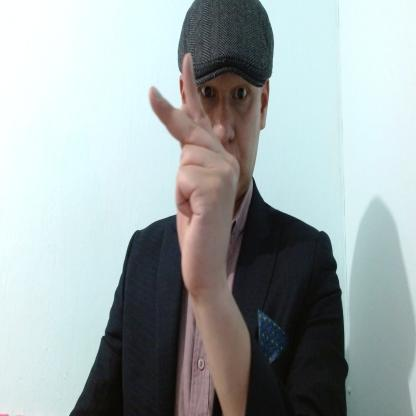P: (148, 52, 241, 291)
